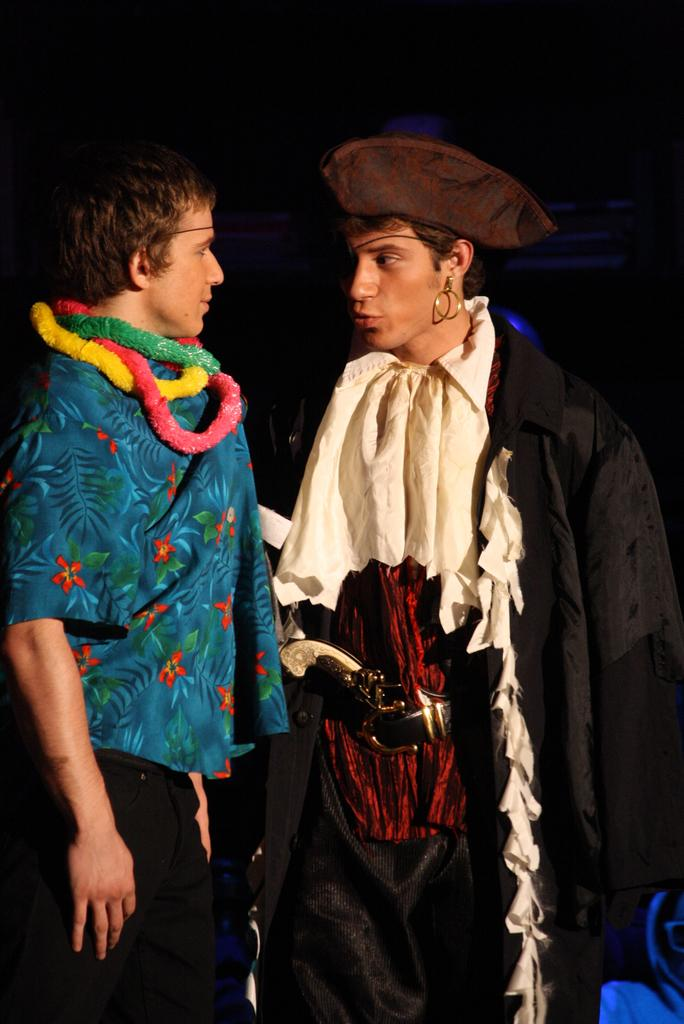Hat: (317, 140, 562, 248)
